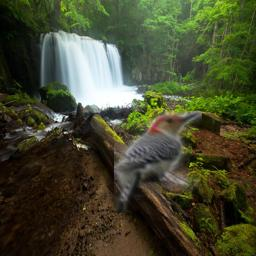Woodpecker: (114, 111, 202, 213)
